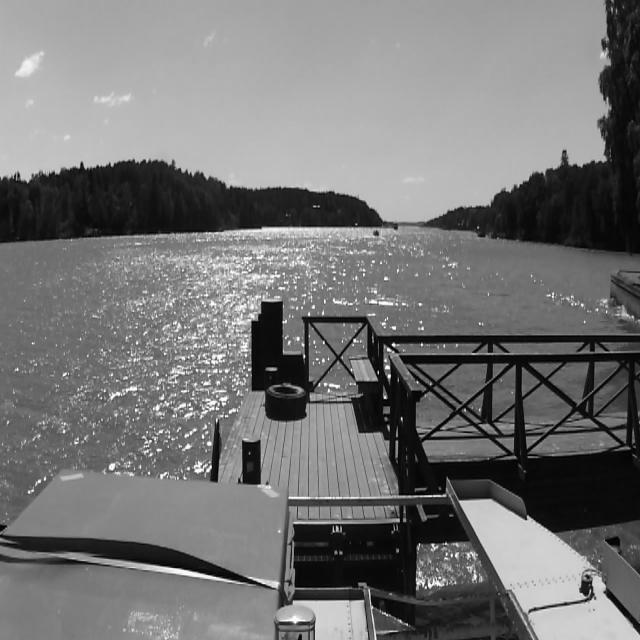ship: (369, 226, 381, 236)
